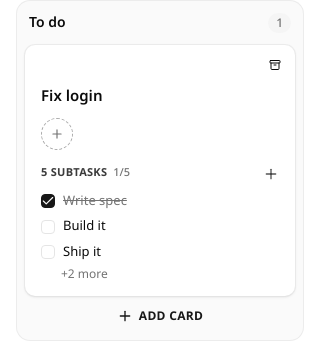
it: CardPreview subtasks and assignees › toggling a checkbox PATCHes the item and updates the count
Expected: the heading "To do" is shown, [29,12,66,33]
Click the checkbox named "Build it" next to "Build it": (48, 227) [41,220,55,234]
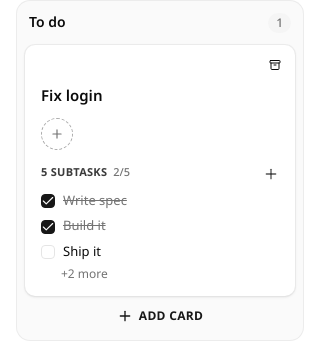
Now the text "2/5" is shown, box [113,164,130,181]
